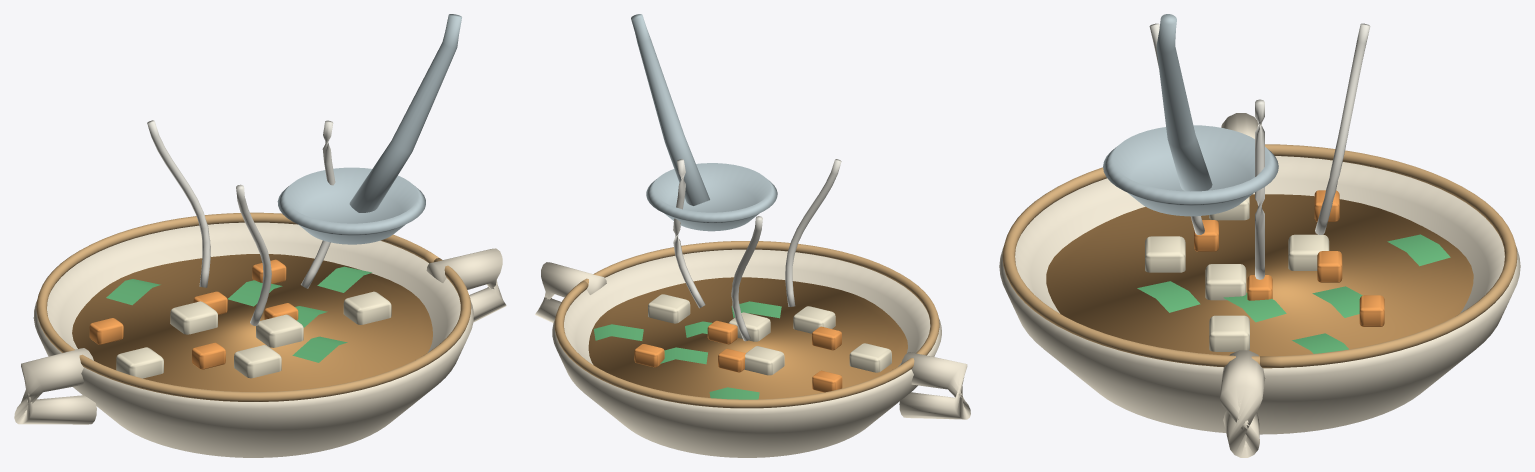
The model's file is T05_Heartwarming_Cafeteria_Chef_Soup.glb.
3 views of the same model, side by side, from view 1: azimuth 30°, elevation 25°; view 2: azimuth 150°, elevation 25°; view 3: azimuth 270°, elevation 25° (orthographic). The views are drawn at different scales.
Visible parts, largest first — view 1: T05_SOUP_BOWL_ACTOR | Old ivory porcelain cafeteria soup bow, T05 visibly concave warm soup real surface, T05_SPOON_ACTOR | Brushed stainless hand ladle, T05 physically engraved copper cafeteria bowl lip, T05_SOUP_BOWL_ACTOR | School cafeteria soft tofu cream, T05_STEAM_ACTOR | Steam soft beige physically ribboned, T05_SOUP_BOWL_ACTOR | Spinach real irregular jade herbs, T05_SOUP_BOWL_ACTOR | Real cooked carrot orange sculpted cub; view 2: T05_SOUP_BOWL_ACTOR | Old ivory porcelain cafeteria soup bow, T05 visibly concave warm soup real surface, T05_SPOON_ACTOR | Brushed stainless hand ladle, T05 physically engraved copper cafeteria bowl lip, T05_SOUP_BOWL_ACTOR | School cafeteria soft tofu cream, T05_STEAM_ACTOR | Steam soft beige physically ribboned, T05_SOUP_BOWL_ACTOR | Real cooked carrot orange sculpted cub, T05_SOUP_BOWL_ACTOR | Spinach real irregular jade herbs; view 3: T05_SOUP_BOWL_ACTOR | Old ivory porcelain cafeteria soup bow, T05 visibly concave warm soup real surface, T05_SPOON_ACTOR | Brushed stainless hand ladle, T05 physically engraved copper cafeteria bowl lip, T05_SOUP_BOWL_ACTOR | School cafeteria soft tofu cream, T05_SOUP_BOWL_ACTOR | Spinach real irregular jade herbs, T05_STEAM_ACTOR | Steam soft beige physically ribboned, T05_SOUP_BOWL_ACTOR | Real cooked carrot orange sculpted cub.
Part boxes in pixels (x1,y1,x2,y2): T05_SOUP_BOWL_ACTOR | Old ivory porcelain cafeteria soup bow: (14,222,506,457); T05 visibly concave warm soup real surface: (72,254,432,391); T05_SPOON_ACTOR | Brushed stainless hand ladle: (277,14,461,244); T05 physically engraved copper cafeteria bowl lip: (36,212,471,401); T05_SOUP_BOWL_ACTOR | School cafeteria soft tofu cream: (116,291,391,378); T05_STEAM_ACTOR | Steam soft beige physically ribboned: (147,120,335,325); T05_SOUP_BOWL_ACTOR | Spinach real irregular jade herbs: (106,266,371,362); T05_SOUP_BOWL_ACTOR | Real cooked carrot orange sculpted cub: (89,259,298,369); T05_SOUP_BOWL_ACTOR | Old ivory porcelain cafeteria soup bow: (535,249,970,457); T05 visibly concave warm soup real surface: (588,277,907,399); T05_SPOON_ACTOR | Brushed stainless hand ladle: (631,14,777,231); T05 physically engraved copper cafeteria bowl lip: (554,241,939,408); T05_SOUP_BOWL_ACTOR | School cafeteria soft tofu cream: (648,294,891,375); T05_STEAM_ACTOR | Steam soft beige physically ribboned: (673,159,841,341); T05_SOUP_BOWL_ACTOR | Real cooked carrot orange sculpted cub: (634,320,842,392); T05_SOUP_BOWL_ACTOR | Spinach real irregular jade herbs: (594,301,781,399); T05_SOUP_BOWL_ACTOR | Old ivory porcelain cafeteria soup bow: (999,113,1520,457); T05 visibly concave warm soup real surface: (1046,194,1473,356); T05_SPOON_ACTOR | Brushed stainless hand ladle: (1103,14,1278,216); T05 physically engraved copper cafeteria bowl lip: (1002,144,1517,368); T05_SOUP_BOWL_ACTOR | School cafeteria soft tofu cream: (1145,197,1329,351); T05_SOUP_BOWL_ACTOR | Spinach real irregular jade herbs: (1137,234,1450,353); T05_STEAM_ACTOR | Steam soft beige physically ribboned: (1149,23,1370,279); T05_SOUP_BOWL_ACTOR | Real cooked carrot orange sculpted cub: (1194,190,1384,326).
Size of the model in its own units: 2.12 by 1.62 by 1.66.
